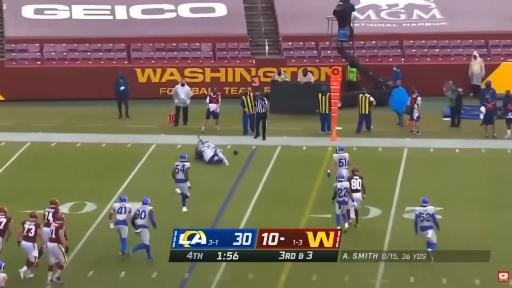Helmet: (337, 170, 347, 182), (54, 215, 64, 223), (50, 199, 59, 206), (29, 212, 38, 219), (142, 198, 150, 205), (180, 154, 187, 162), (336, 146, 344, 153), (0, 207, 7, 214), (352, 167, 359, 174), (119, 196, 127, 202), (422, 197, 428, 205), (0, 261, 5, 270), (204, 141, 209, 143)
Jersey: (415, 206, 438, 250), (133, 205, 156, 245), (348, 175, 363, 208), (334, 182, 349, 214), (416, 206, 434, 231), (22, 220, 41, 243), (134, 206, 152, 229), (113, 203, 131, 226), (334, 182, 350, 205), (174, 162, 190, 183), (43, 206, 59, 227), (49, 223, 65, 244), (333, 153, 349, 172), (0, 215, 11, 238), (348, 175, 362, 193), (196, 145, 209, 157), (0, 272, 7, 287), (203, 144, 215, 150)
Player: (18, 212, 41, 279), (415, 197, 439, 261), (132, 198, 156, 261), (47, 215, 67, 283), (109, 196, 131, 256), (332, 171, 353, 230), (39, 199, 59, 258), (172, 154, 190, 212), (348, 167, 365, 227), (196, 138, 228, 165), (202, 89, 220, 133), (328, 146, 350, 177), (0, 207, 11, 254), (410, 91, 421, 135), (0, 261, 7, 287)
